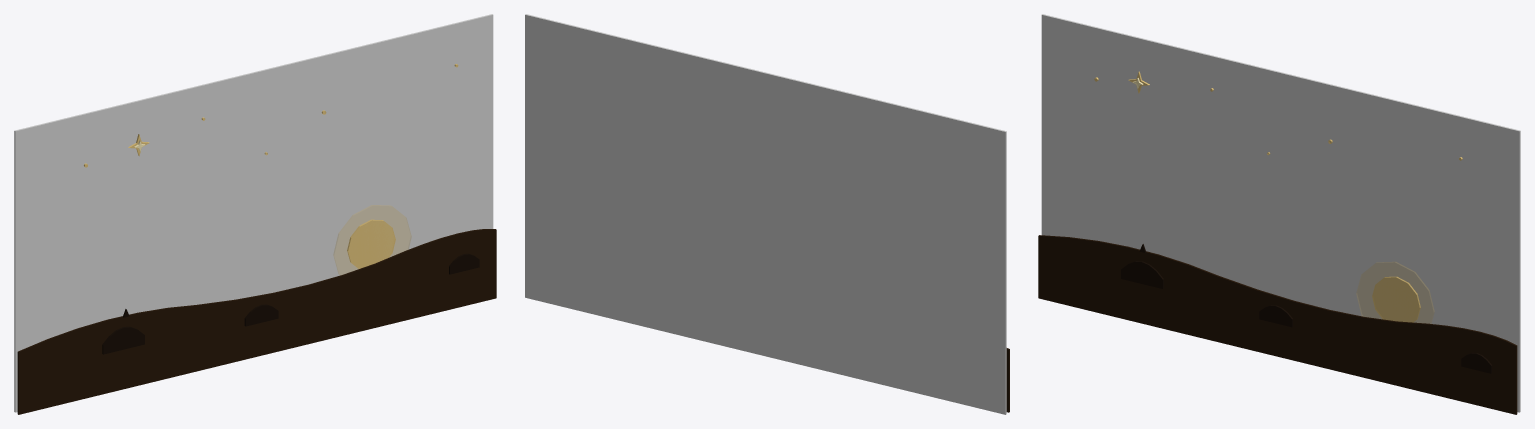
File: loc-nebo-stepi.glb
3 renders of one model, left to right at view 1: azimuth 30°, elevation 25°; view 2: azimuth 150°, elevation 25°; view 3: azimuth 330°, elevation 25°, orthographic.
Visible parts, largest first — view 1: loc-nebo-stepi; view 2: loc-nebo-stepi; view 3: loc-nebo-stepi.
Boxes of the visible parts, x1,y1,x2,y2 form: loc-nebo-stepi: (14, 14, 496, 414); loc-nebo-stepi: (525, 14, 1009, 414); loc-nebo-stepi: (1038, 14, 1520, 414).
Size of the model in its own units: 5.33 by 3 by 0.3.
